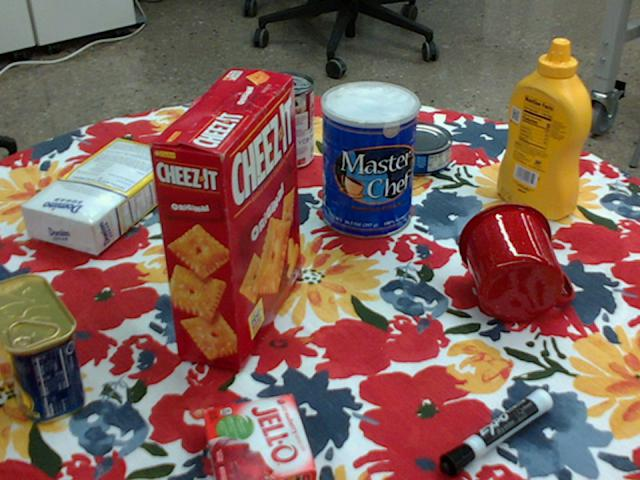cracker_box: (144, 68, 297, 371)
gelatin_box: (204, 393, 320, 479)
large_marker: (442, 387, 554, 474)
master_chef_can: (321, 81, 419, 239)
mug: (457, 201, 573, 322)
mustard_bottle: (495, 40, 590, 220)
potted_meat_can: (0, 273, 84, 422)
sugar_box: (21, 139, 183, 256)
tomato_soup_can: (257, 72, 314, 171)
tuna_fish_can: (385, 123, 454, 176)
